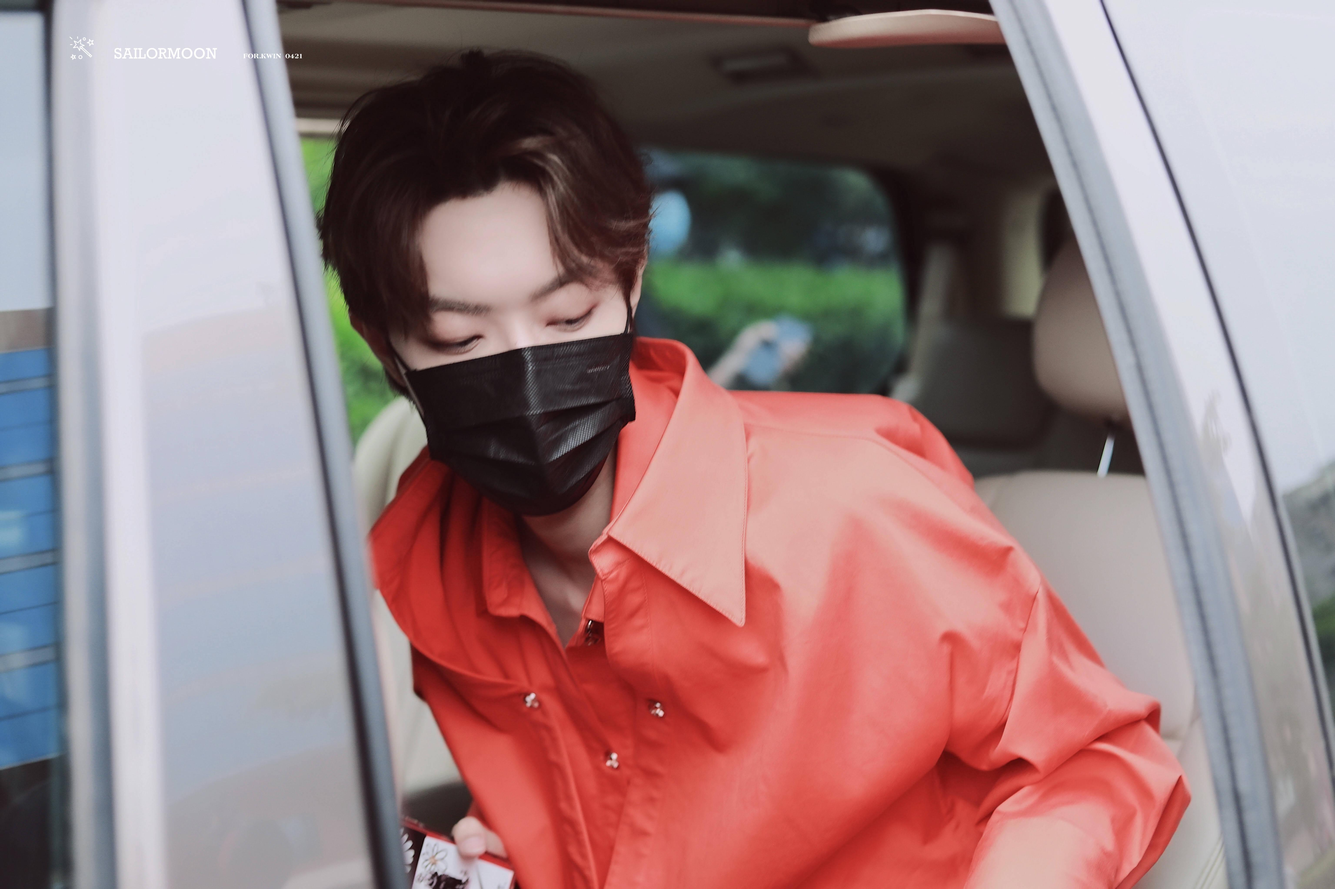OK: (401, 237, 639, 518)
